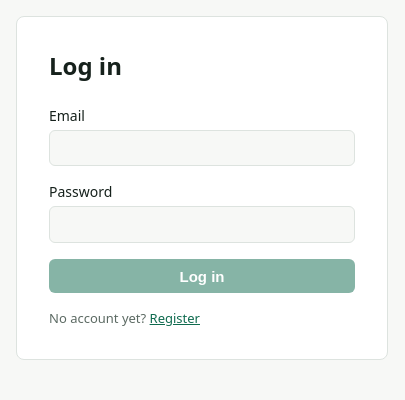
Test case: invalid email shows an inline error after blur
In the field labelled "Email": point(202, 148) x1=49 y1=130 x2=355 y2=166, type "not-an-email"
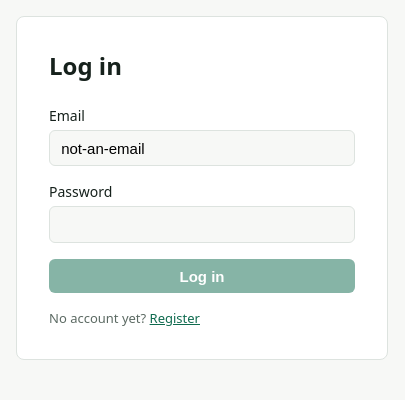
Leave the field labelled "Email", box x1=49 y1=130 x2=355 y2=166
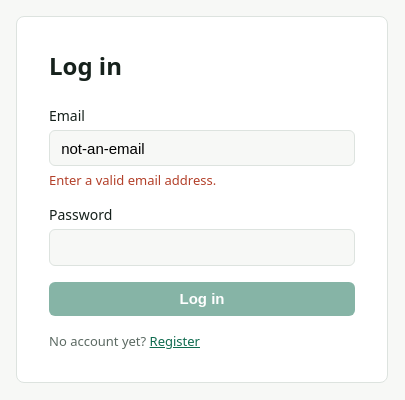
Expected: the text "Enter a valid email address." is shown, x1=49 y1=171 x2=216 y2=189
